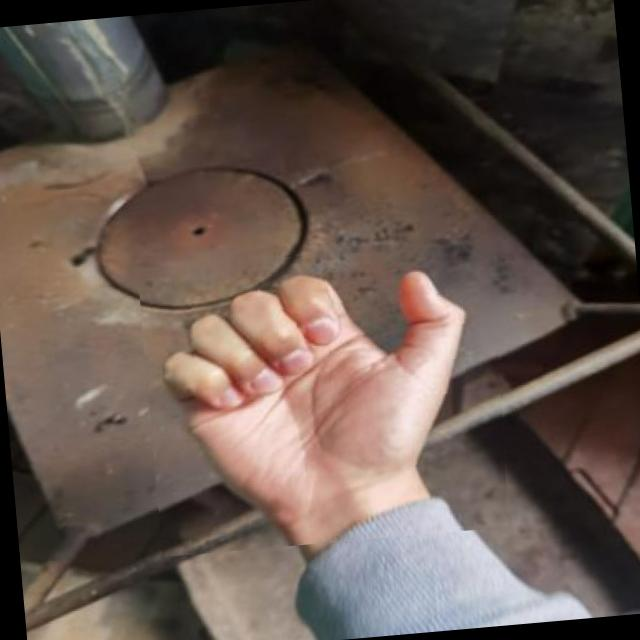E: (136, 236, 516, 556)
